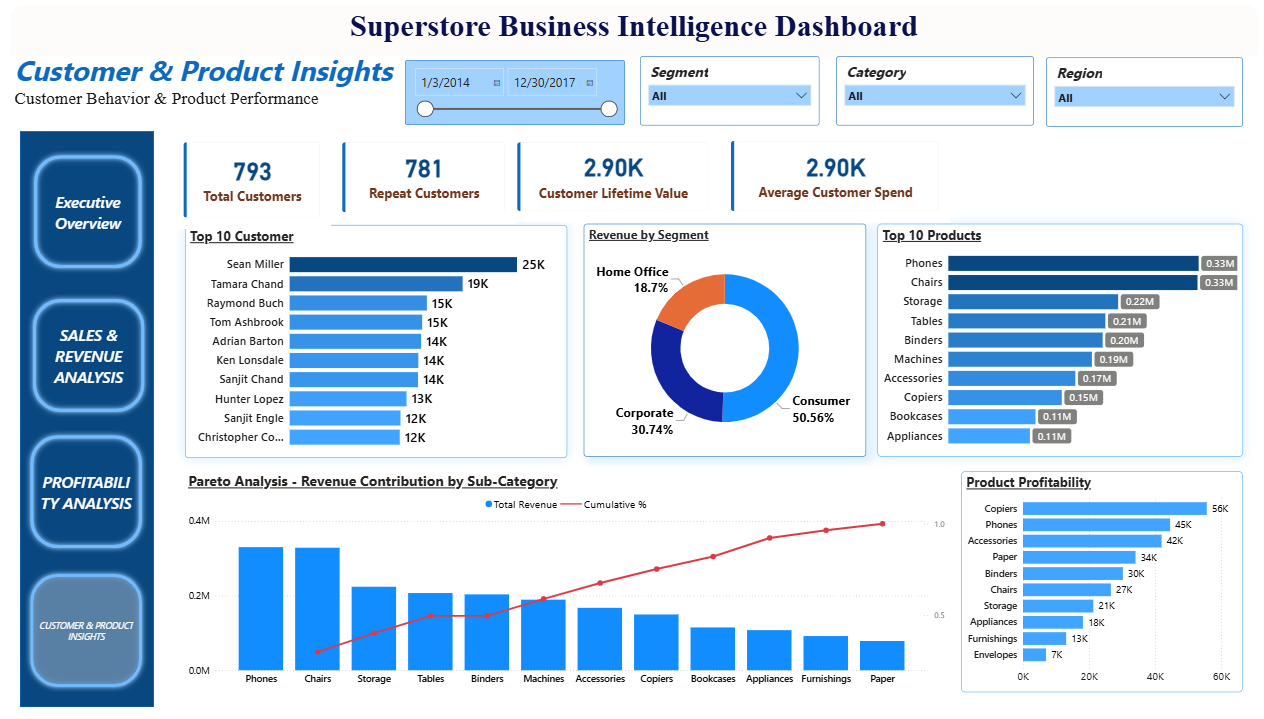

Layout of this report page (visuals, bound fields, positions):
{"tool":"powerbi","page":{"name":"CUSTOMER & PRODUCT INSIGHTS","canvas":[1920,1080],"ordinal":3},"visuals":[{"type":"barChart","title":"Top 10 Customer","fields":{"Category":["cleaned_data.Customer Name"],"Y":["Sum(cleaned_data.Sales)"]},"box":[270,338,588,358],"z":0},{"type":"cardVisual","fields":{"Data":["cleaned_data.Total Customers"]},"box":[250,194,244,150],"z":1000},{"type":"donutChart","title":"Revenue by Segment","fields":{"Category":["cleaned_data.Segment"],"Y":["cleaned_data.Total Revenue"]},"box":[882,336,434,358],"z":2000},{"type":"barChart","title":"Top 10 Products","fields":{"Category":["cleaned_data.Sub-Category"],"Y":["cleaned_data.Total Revenue"]},"box":[1334,336,562,358],"z":3000},{"type":"barChart","title":"Product Profitability","fields":{"Category":["cleaned_data.Sub-Category"],"Y":["Sum(cleaned_data.Profit)"]},"box":[1463.5,717.3,432.7,340.4],"z":4000},{"type":"cardVisual","fields":{"Data":["cleaned_data.Repeat Customers"]},"box":[494,194,284,142],"z":5000},{"type":"cardVisual","fields":{"Data":["cleaned_data.CLV"]},"box":[764,194,328,140],"z":6000},{"type":"cardVisual","fields":{"Data":["cleaned_data.Average Customer Spend"]},"box":[1092,192,354,142],"z":7000},{"type":"textbox","box":[2,60,610,134],"z":8000},{"type":"shape","box":[16,194,206,886],"z":9000},{"type":"pageNavigator","box":[24,868,188,190],"z":10000},{"type":"pageNavigator","box":[24,654,188,190],"z":11000},{"type":"pageNavigator","box":[26,444,188,190],"z":12000},{"type":"pageNavigator","box":[28,224,182,190],"z":13000},{"type":"shape","box":[0,0,1920,78],"z":14000},{"type":"slicer","fields":{"Values":["cleaned_data.Order Date"]},"box":[608,84,338,100],"z":15000},{"type":"slicer","fields":{"Values":["cleaned_data.Segment"]},"box":[970,78,276,106],"z":16000},{"type":"slicer","fields":{"Values":["cleaned_data.Category"]},"box":[1272,78,304,106],"z":17000},{"type":"slicer","fields":{"Values":["cleaned_data.Region"]},"box":[1594,80,302,106],"z":18000},{"type":"lineClusteredColumnComboChart","title":"Pareto Analysis - Revenue Contribution by Sub-Category","fields":{"Category":["cleaned_data.Sub-Category"],"Y2":["cleaned_data.Cumulative %"],"Y":["cleaned_data.Total Revenue"]},"box":[269.2,717.3,1176.9,340.4],"z":19000}]}

Visuals, with their boxes in screenshot pixels (x1, y1, x2, y2), scaled from the page's 1920x1080 canvas onto the 1264x719 screenshot:
"Top 10 Customer" barChart: pyautogui.locateOnScreen(178, 225, 565, 463)
cardVisual - cleaned_data.Total Customers: pyautogui.locateOnScreen(165, 129, 325, 229)
"Revenue by Segment" donutChart: pyautogui.locateOnScreen(581, 224, 866, 462)
"Top 10 Products" barChart: pyautogui.locateOnScreen(878, 224, 1248, 462)
"Product Profitability" barChart: pyautogui.locateOnScreen(963, 478, 1248, 704)
cardVisual - cleaned_data.Repeat Customers: pyautogui.locateOnScreen(325, 129, 512, 224)
cardVisual - cleaned_data.CLV: pyautogui.locateOnScreen(503, 129, 719, 222)
cardVisual - cleaned_data.Average Customer Spend: pyautogui.locateOnScreen(719, 128, 952, 222)
textbox: pyautogui.locateOnScreen(1, 40, 403, 129)
shape: pyautogui.locateOnScreen(11, 129, 146, 718)
pageNavigator: pyautogui.locateOnScreen(16, 578, 140, 704)
pageNavigator: pyautogui.locateOnScreen(16, 435, 140, 562)
pageNavigator: pyautogui.locateOnScreen(17, 296, 141, 422)
pageNavigator: pyautogui.locateOnScreen(18, 149, 138, 276)
shape: pyautogui.locateOnScreen(0, 0, 1263, 52)
slicer - cleaned_data.Order Date: pyautogui.locateOnScreen(400, 56, 623, 122)
slicer - cleaned_data.Segment: pyautogui.locateOnScreen(639, 52, 820, 122)
slicer - cleaned_data.Category: pyautogui.locateOnScreen(837, 52, 1038, 122)
slicer - cleaned_data.Region: pyautogui.locateOnScreen(1049, 53, 1248, 124)
"Pareto Analysis - Revenue Contribution by Sub-Category" lineClusteredColumnComboChart: pyautogui.locateOnScreen(177, 478, 952, 704)
